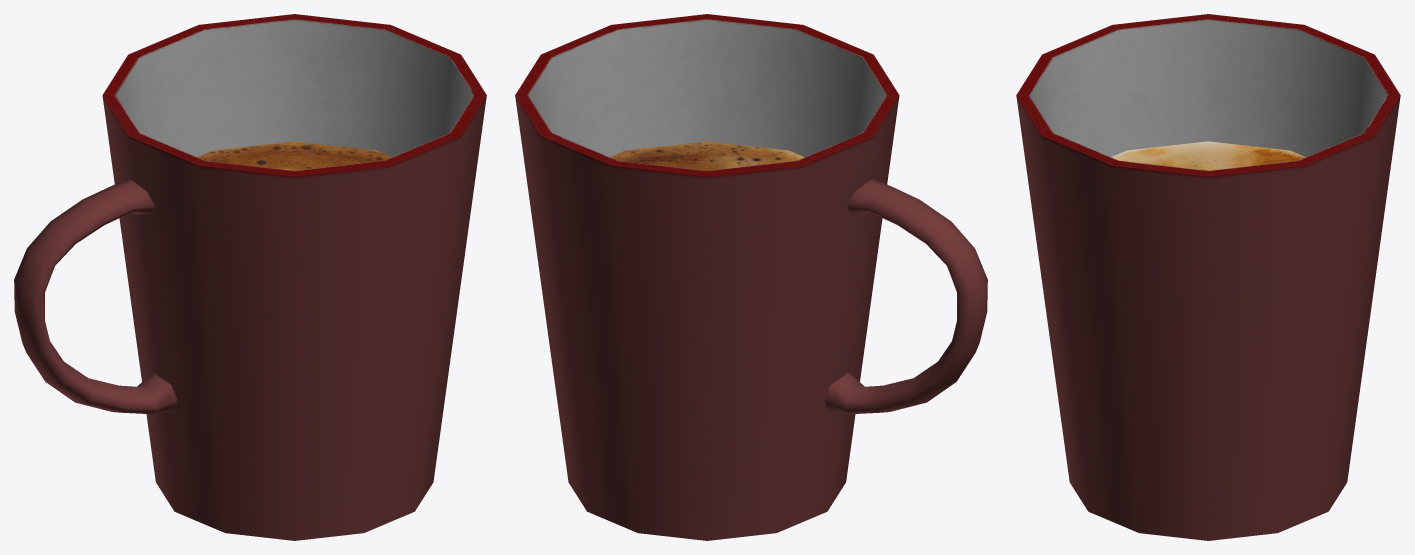
Rendered from CupA_full.fbx.
3 views of the same model, side by side, from view 1: azimuth 30°, elevation 25°; view 2: azimuth 150°, elevation 25°; view 3: azimuth 270°, elevation 25° (orthographic).
Visible parts, largest first — view 1: CupA_full; view 2: CupA_full; view 3: CupA_full.
Part boxes in pixels (bbox=[...]): CupA_full: bbox=[14, 14, 486, 540]; CupA_full: bbox=[515, 14, 987, 540]; CupA_full: bbox=[1016, 14, 1400, 540].
Bounding box in the file's own units: 11.99 × 10 × 9.
